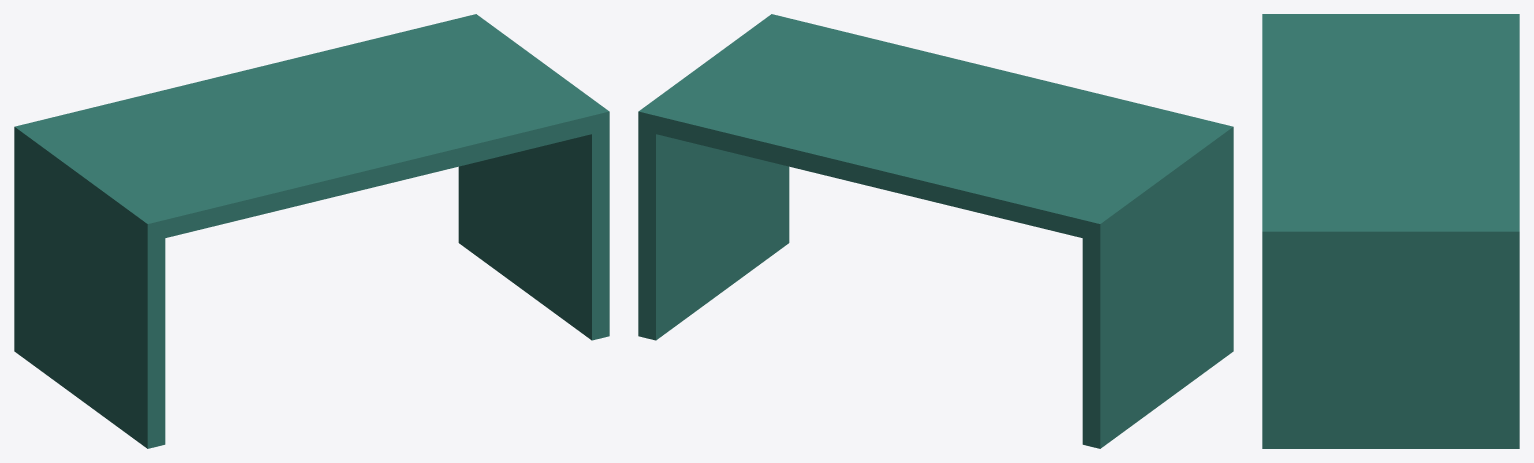
File: MetalPlatformShor_Collision.fbx
3 renders of one model, left to right at view 1: azimuth 30°, elevation 25°; view 2: azimuth 150°, elevation 25°; view 3: azimuth 270°, elevation 25°, orthographic. The views are drawn at different scales.
Visible parts, largest first — view 1: MetalPlatformShor_Collision; view 2: MetalPlatformShor_Collision; view 3: MetalPlatformShor_Collision.
Part boxes in pixels (box(x1,y1,x2,y2)): MetalPlatformShor_Collision: box(14, 14, 609, 448); MetalPlatformShor_Collision: box(638, 14, 1233, 448); MetalPlatformShor_Collision: box(1262, 14, 1519, 448).
Size of the model in its own units: 2.72 by 1.27 by 1.36.
